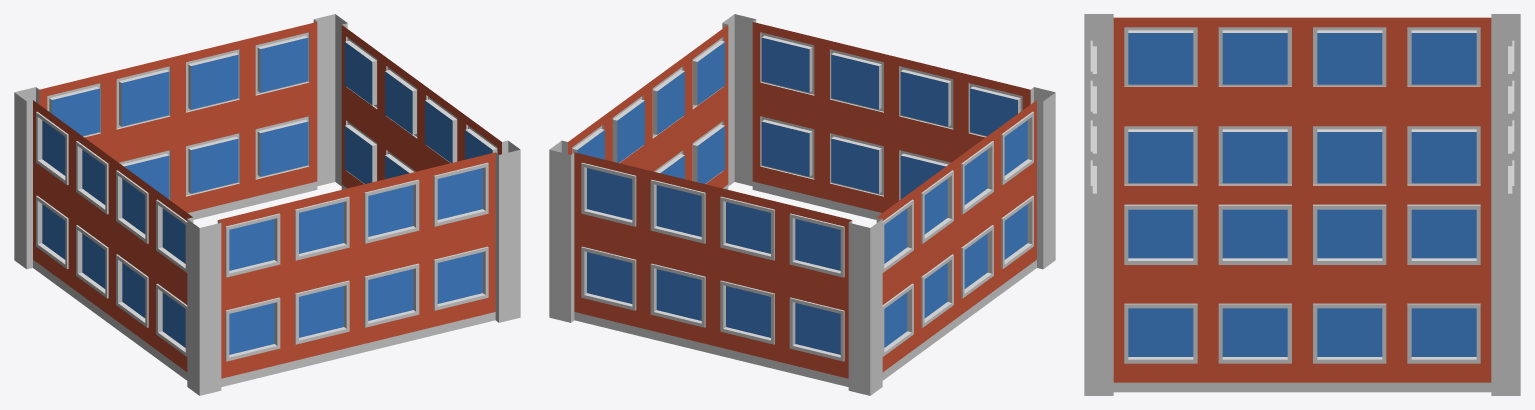
The model's file is Res_1x1_base.fbx.
3 views of the same model, side by side, from view 1: azimuth 30°, elevation 25°; view 2: azimuth 150°, elevation 25°; view 3: azimuth 270°, elevation 25° (orthographic). The views are drawn at different scales.
Visible parts, largest first — view 1: Building_001_10x10_base; view 2: Building_001_10x10_base; view 3: Building_001_10x10_base.
Boxes of the visible parts, x1,y1,x2,y2 form: Building_001_10x10_base: [14, 14, 520, 395]; Building_001_10x10_base: [549, 14, 1055, 395]; Building_001_10x10_base: [1084, 14, 1520, 395].
Bounding box in the file's own units: 1000 × 1000 × 500.
